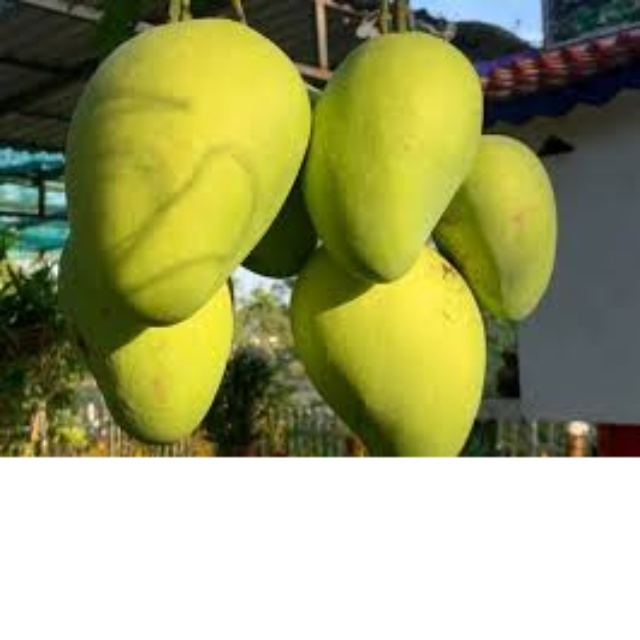thanh_long: (63, 5, 316, 316), (307, 18, 495, 286)
